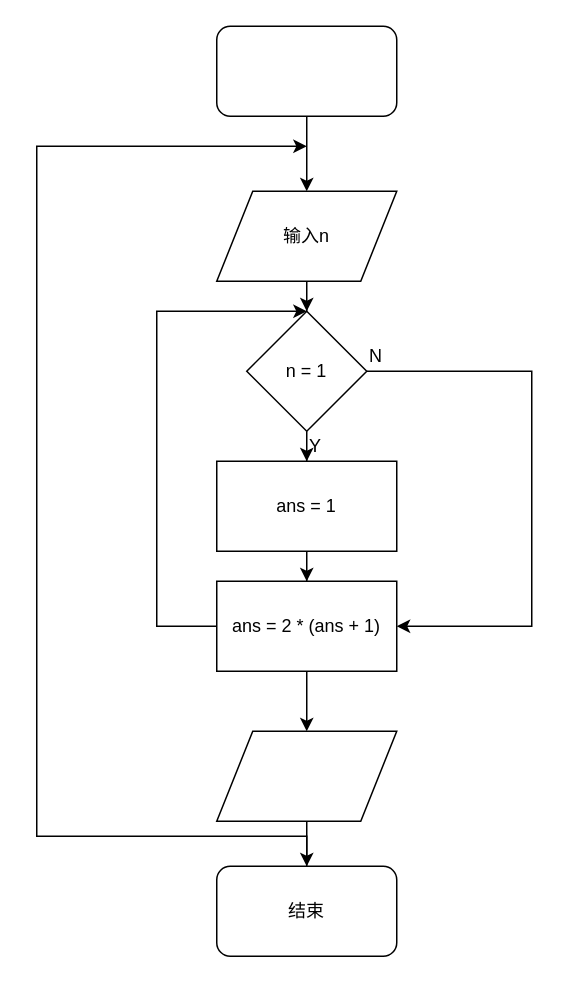
Some shapes in this 570 by 983 pixel diagram are drawn without their labels. Here are the shapes that lost their labels. From the top down, the centre of each, then its label:
pixel 306 70: 开始
pixel 306 775: 输出ans
